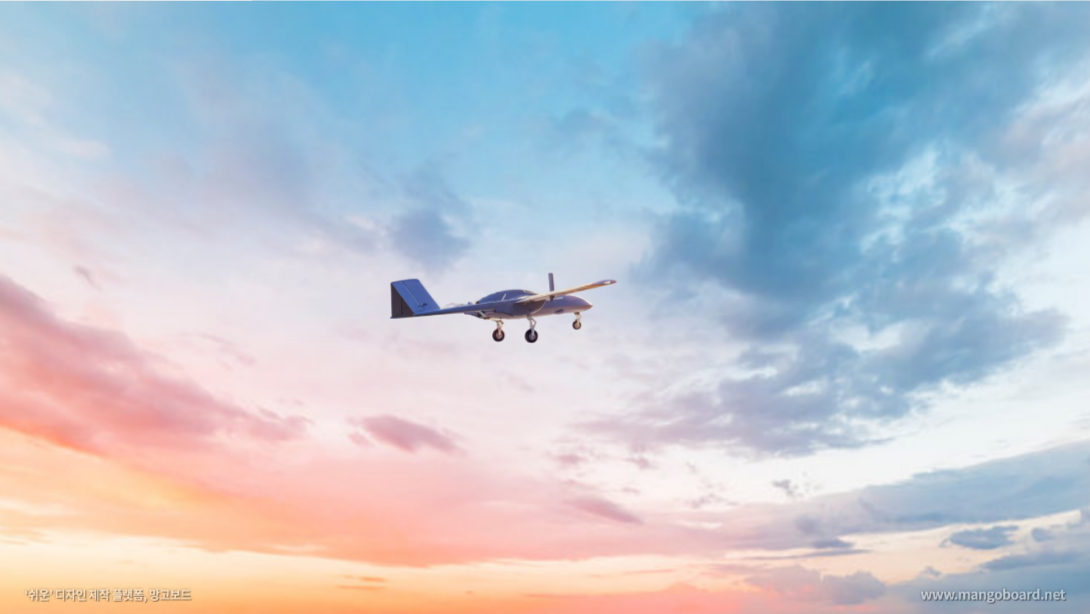military drone: (390, 272, 616, 343)
